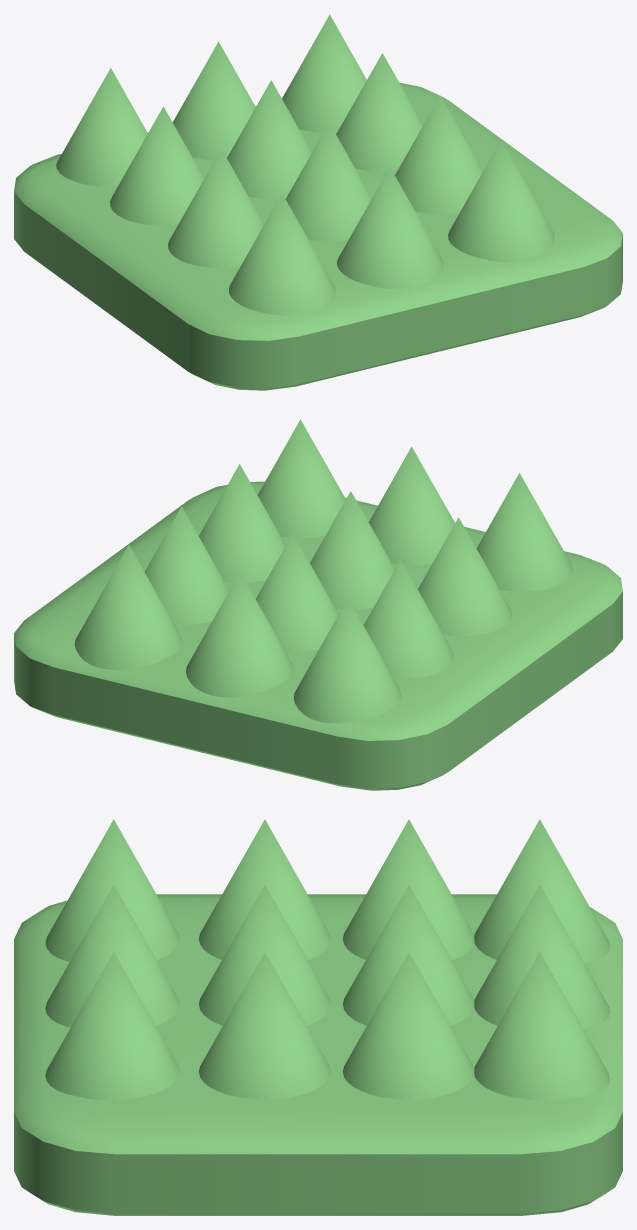
File: Spike.fbx
3 renders of one model, top to bottom at view 1: azimuth 30°, elevation 25°; view 2: azimuth 150°, elevation 25°; view 3: azimuth 270°, elevation 25°, orthographic. The views are drawn at different scales.
Visible parts, largest first — view 1: Cube; view 2: Cube; view 3: Cube.
Part boxes in pixels (x1,y1,x2,y2): Cube: (14, 14, 622, 390); Cube: (14, 419, 622, 790); Cube: (14, 819, 622, 1215).
Bounding box in the file's own units: 240 × 90.76 × 240.
